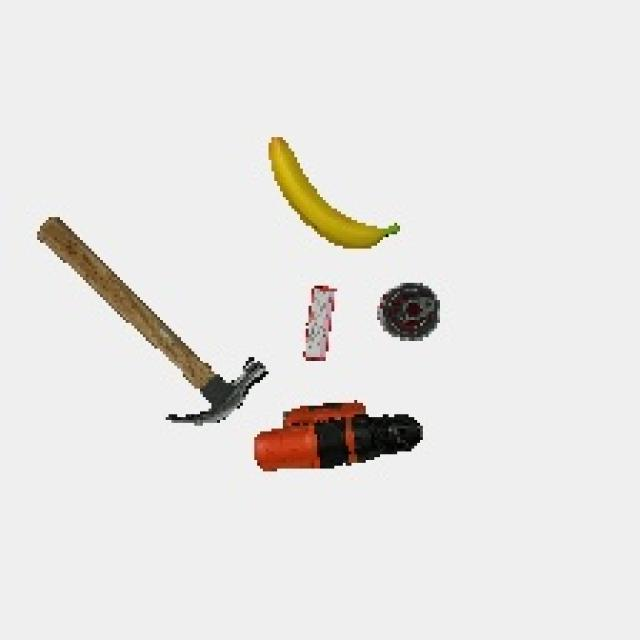GelatinBox: (298, 278, 340, 373)
Hammer: (32, 214, 270, 428)
TomatoSoupCan: (371, 279, 450, 348)
